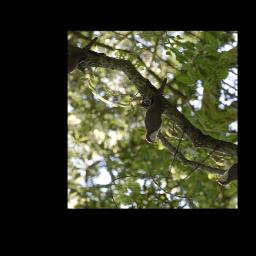Cuckoo: (128, 74, 194, 148)
